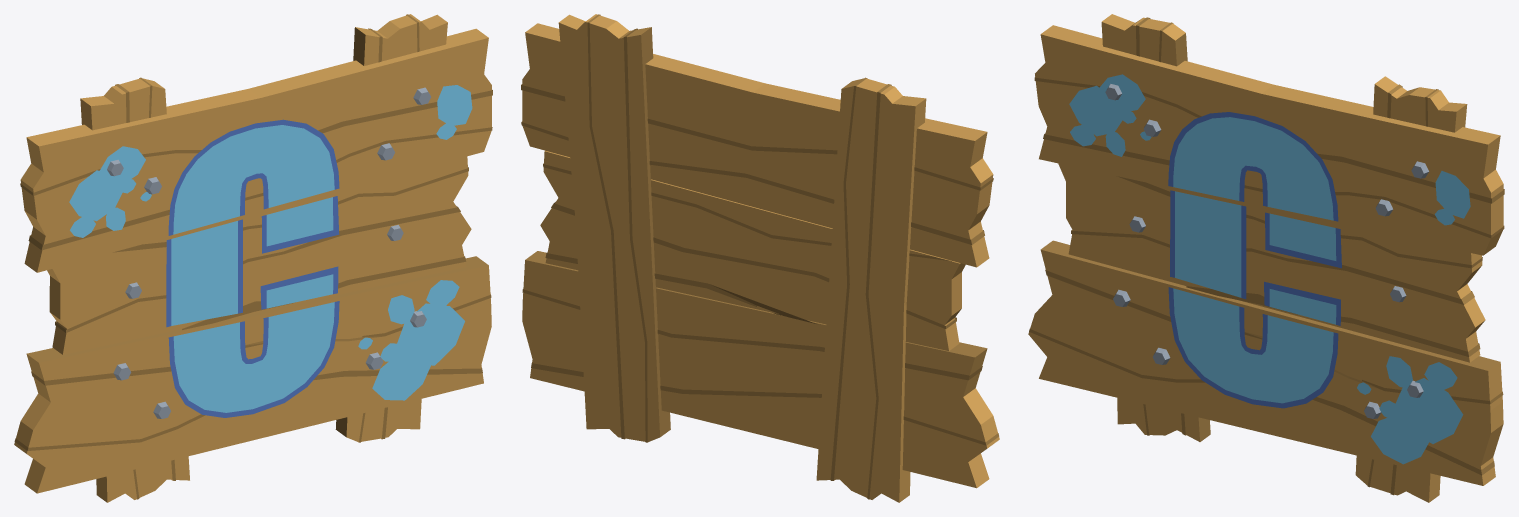
The model's file is DE_Guide_C_03.fbx.
3 views of the same model, side by side, from view 1: azimuth 30°, elevation 25°; view 2: azimuth 150°, elevation 25°; view 3: azimuth 330°, elevation 25° (orthographic).
Parts seen in each view (by area): view 1: DE_Guide_C_03; view 2: DE_Guide_C_03; view 3: DE_Guide_C_03.
Boxes of the visible parts, x1,y1,x2,y2 form: DE_Guide_C_03: [14, 14, 492, 502]; DE_Guide_C_03: [521, 14, 999, 502]; DE_Guide_C_03: [1028, 14, 1504, 502].
Size of the model in its own units: 125 by 105 by 8.86.
